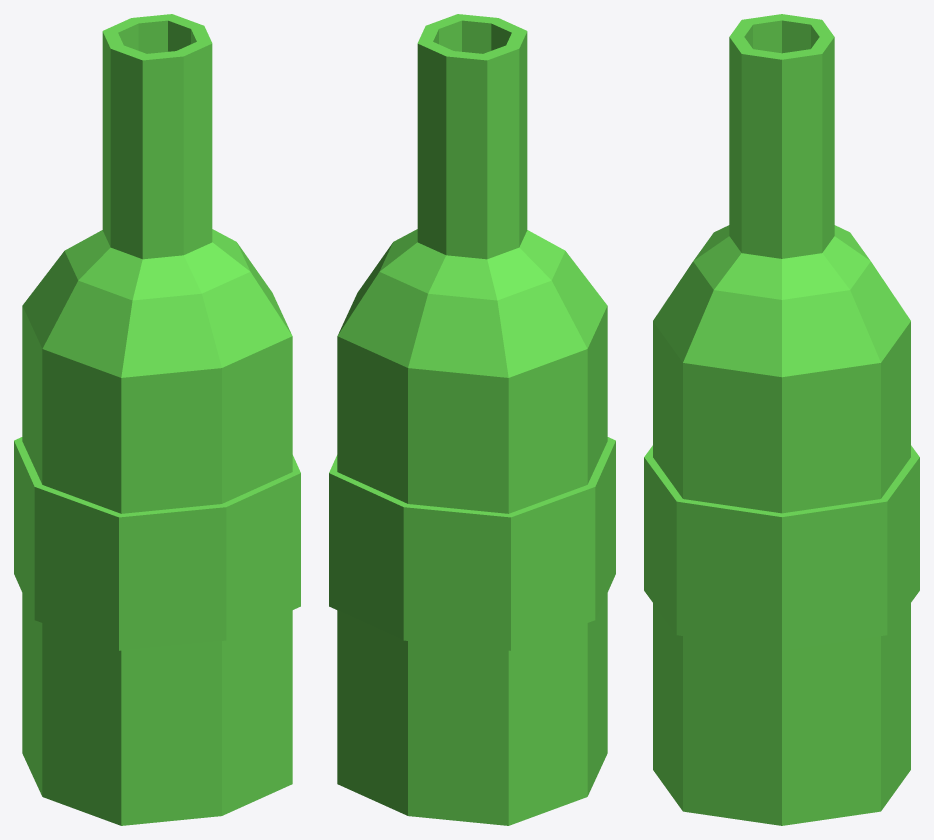
The model's file is botella.fbx.
The picture shows the model from 3 angles, left to right: view 1: azimuth 30°, elevation 25°; view 2: azimuth 150°, elevation 25°; view 3: azimuth 270°, elevation 25°; orthographic projection.
Parts seen in each view (by area): view 1: botella; view 2: botella; view 3: botella.
Boxes of the visible parts, x1,y1,x2,y2 form: botella: (14, 14, 300, 825); botella: (329, 14, 615, 825); botella: (644, 14, 919, 825).
Bounding box in the file's own units: 3.12 × 8.87 × 3.02.
